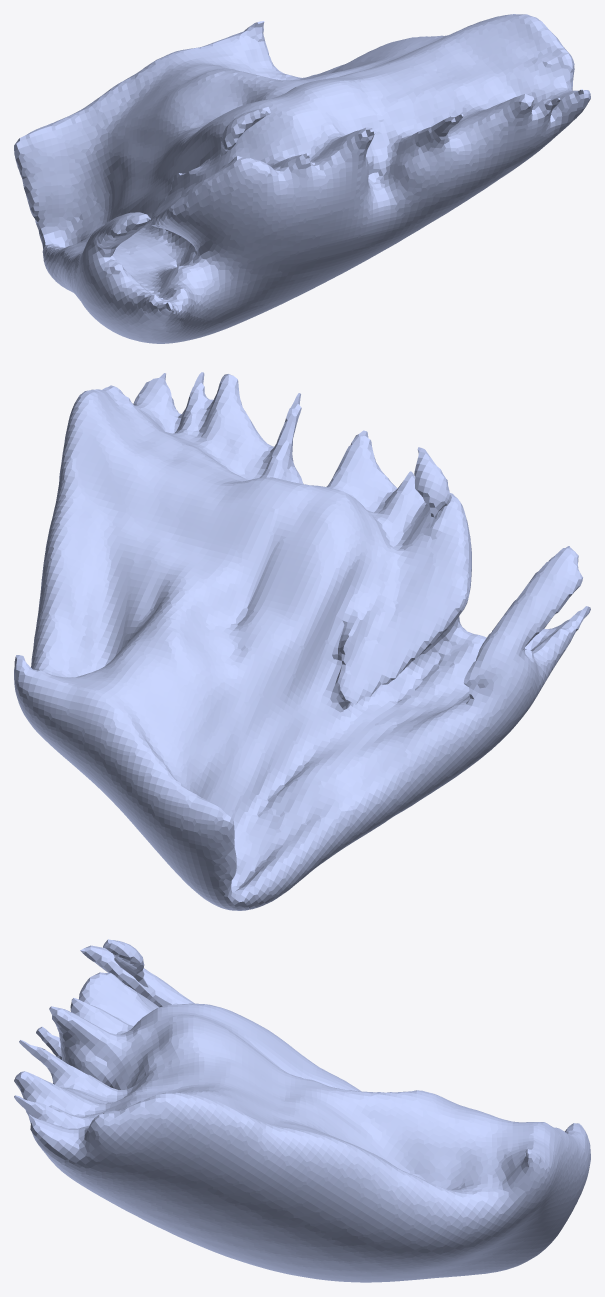
The model's file is New_cloud.gltf.
3 renders of one model, top to bottom at view 1: azimuth 30°, elevation 25°; view 2: azimuth 150°, elevation 25°; view 3: azimuth 270°, elevation 25°, orthographic. The views are drawn at different scales.
Parts seen in each view (by area): view 1: Mesh Cut1; view 2: Mesh Cut1; view 3: Mesh Cut1.
Boxes of the visible parts, x1,y1,x2,y2 form: Mesh Cut1: (14,14,590,343); Mesh Cut1: (14,372,590,910); Mesh Cut1: (14,939,590,1282).
Bounding box in the file's own units: 2.17 × 1.38 × 2.18.
